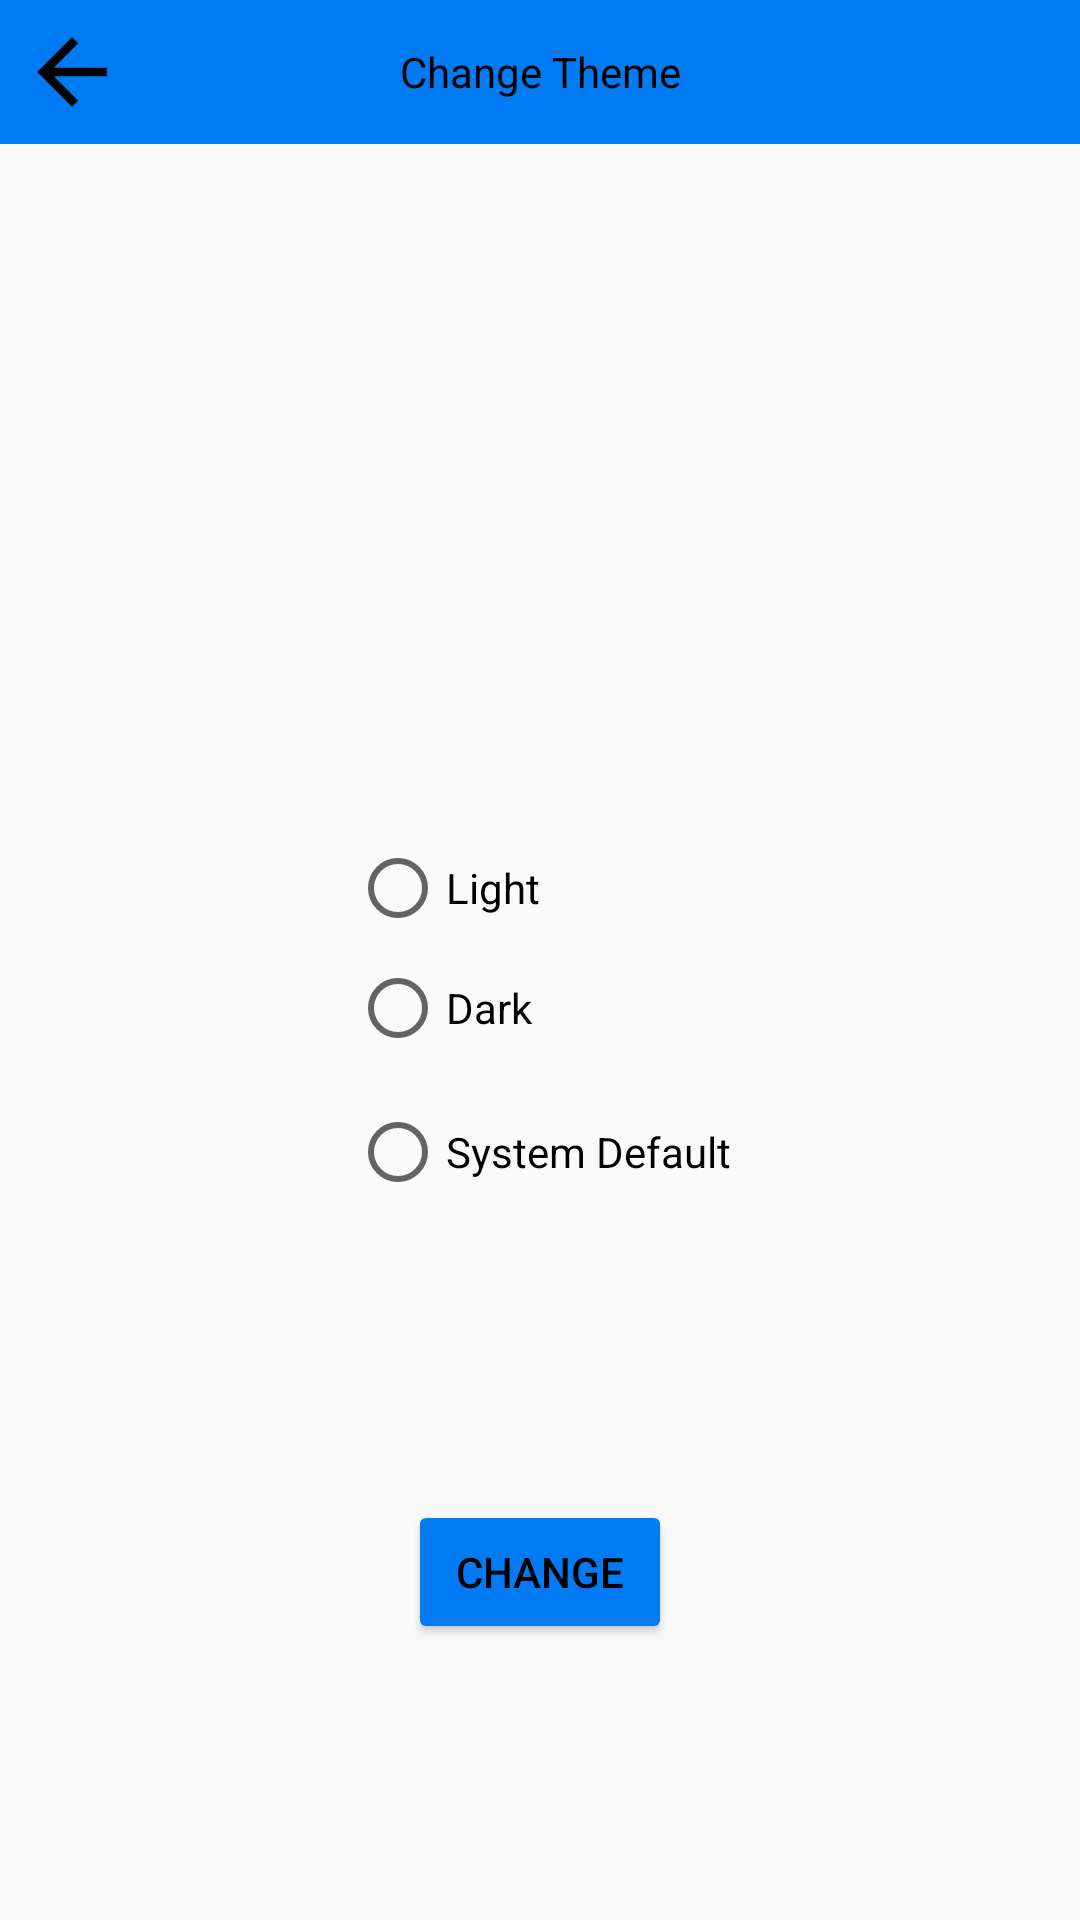

Where to tap for icons on this 1080px x 1920px app screen, as point (x, y):
Go Back: point (72, 72)
